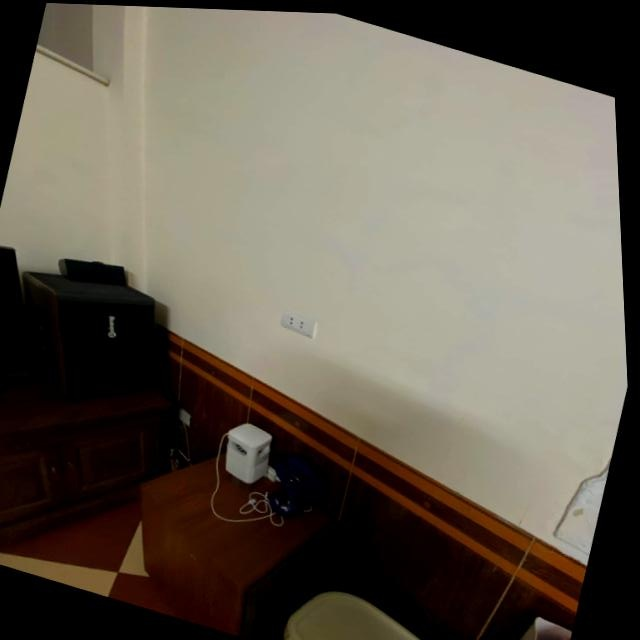outlet: (277, 310, 318, 340)
